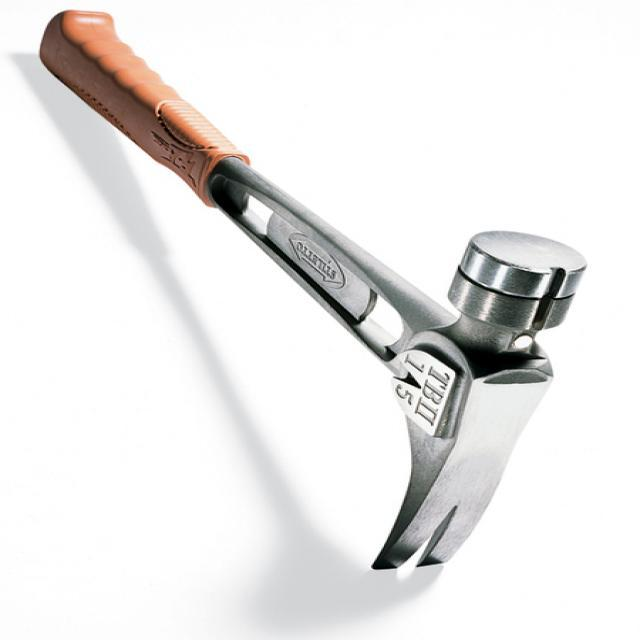hammer: (24, 6, 598, 581)
